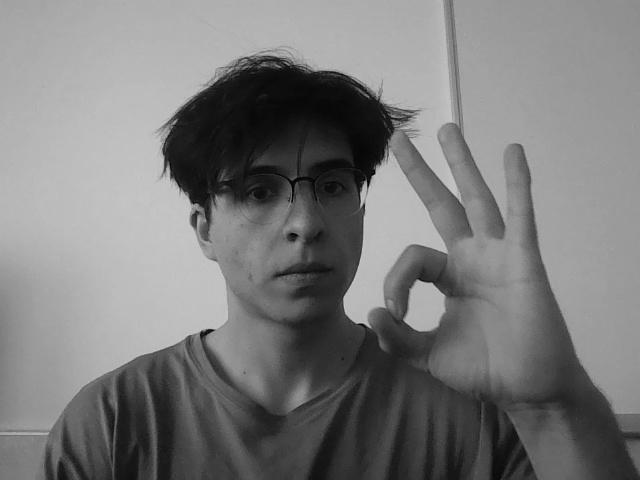OK: (364, 119, 588, 423)
